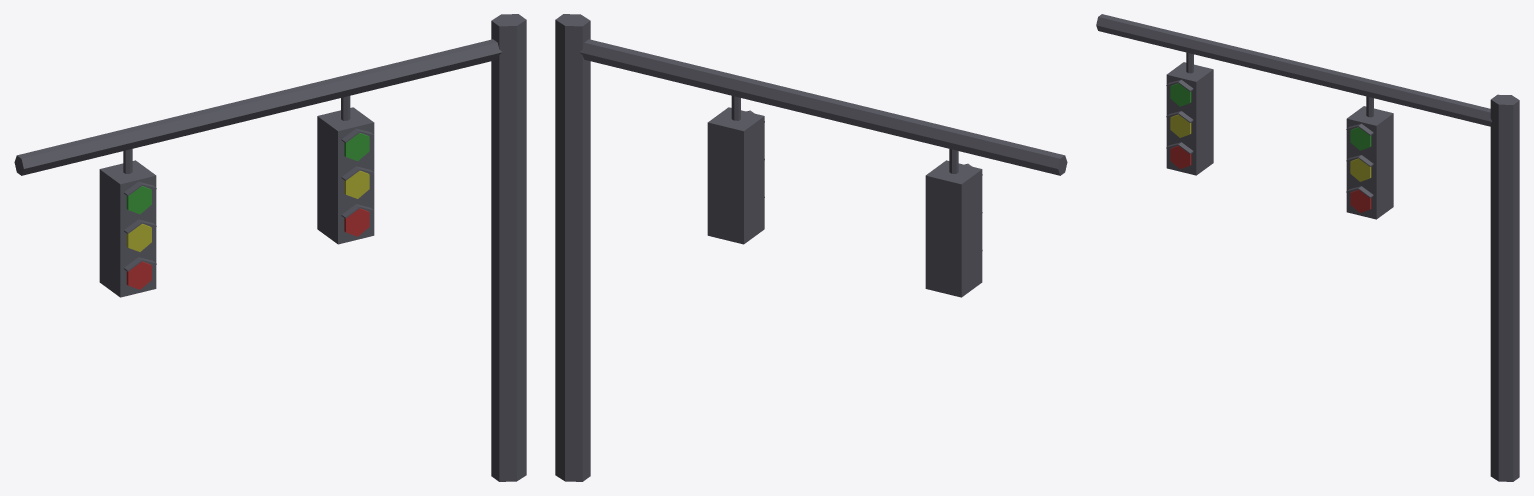
Rendered from overhang-lights.glb.
3 renders of one model, left to right at view 1: azimuth 30°, elevation 25°; view 2: azimuth 150°, elevation 25°; view 3: azimuth 330°, elevation 25°, orthographic. The views are drawn at different scales.
Parts seen in each view (by area): view 1: Traffic Light Overhang Base 2C, Light Middle L2C, Light Middle R2C, Light Bottom R2C, Light Bottom L2C, LIght Top L2C, LIght Top R2C; view 2: Traffic Light Overhang Base 2C; view 3: Traffic Light Overhang Base 2C.
Boxes of the visible parts, x1=… form: Traffic Light Overhang Base 2C: x1=14, y1=14, x2=526, y2=481; Light Middle L2C: x1=126, y1=223, x2=151, y2=251; Light Middle R2C: x1=344, y1=170, x2=369, y2=198; Light Bottom R2C: x1=344, y1=208, x2=369, y2=236; Light Bottom L2C: x1=126, y1=261, x2=151, y2=289; LIght Top L2C: x1=126, y1=186, x2=151, y2=214; LIght Top R2C: x1=344, y1=133, x2=369, y2=161; Traffic Light Overhang Base 2C: x1=555, y1=14, x2=1067, y2=481; Traffic Light Overhang Base 2C: x1=1096, y1=14, x2=1519, y2=481.
Size of what is drawn, in the model's own units: 9.25 by 8 by 0.7859.
Materials: 1 (1 with a texture image).
